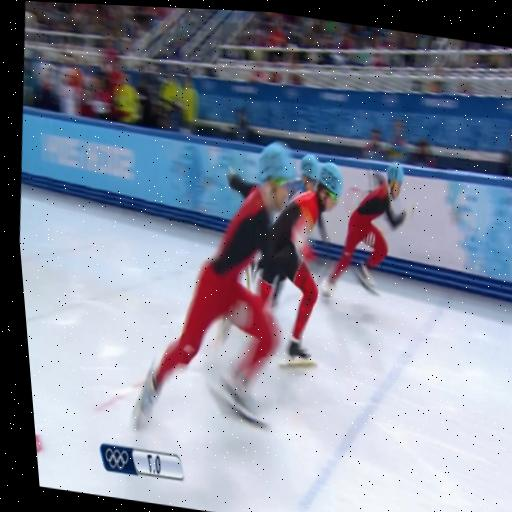Skater: (133, 142, 293, 427), (258, 163, 341, 365), (322, 163, 405, 297), (284, 154, 320, 202)
